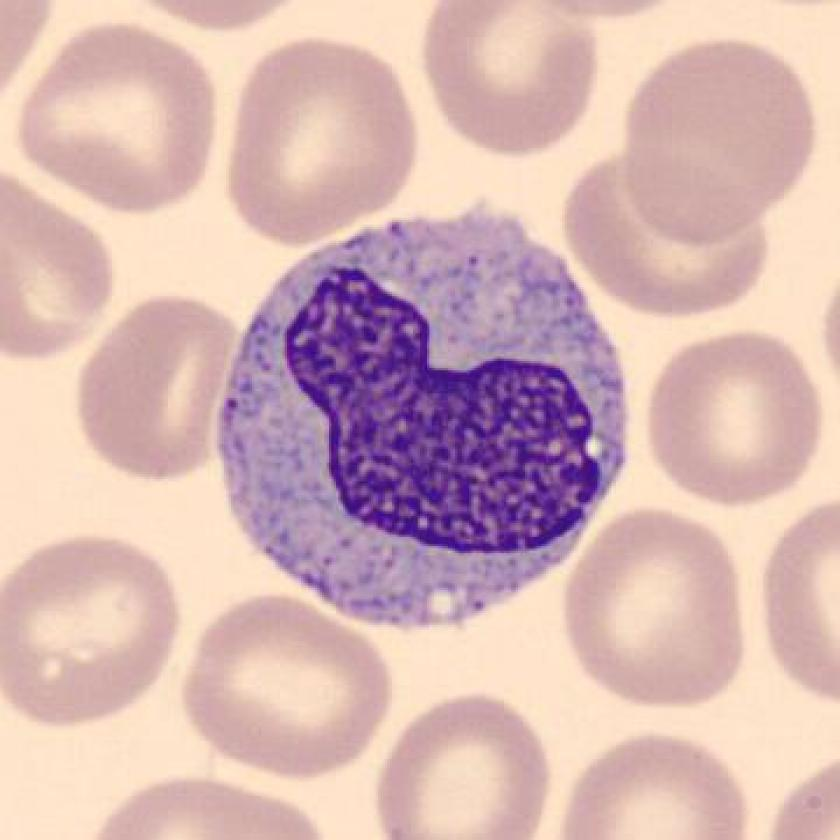monocyte: (200, 193, 648, 644)
